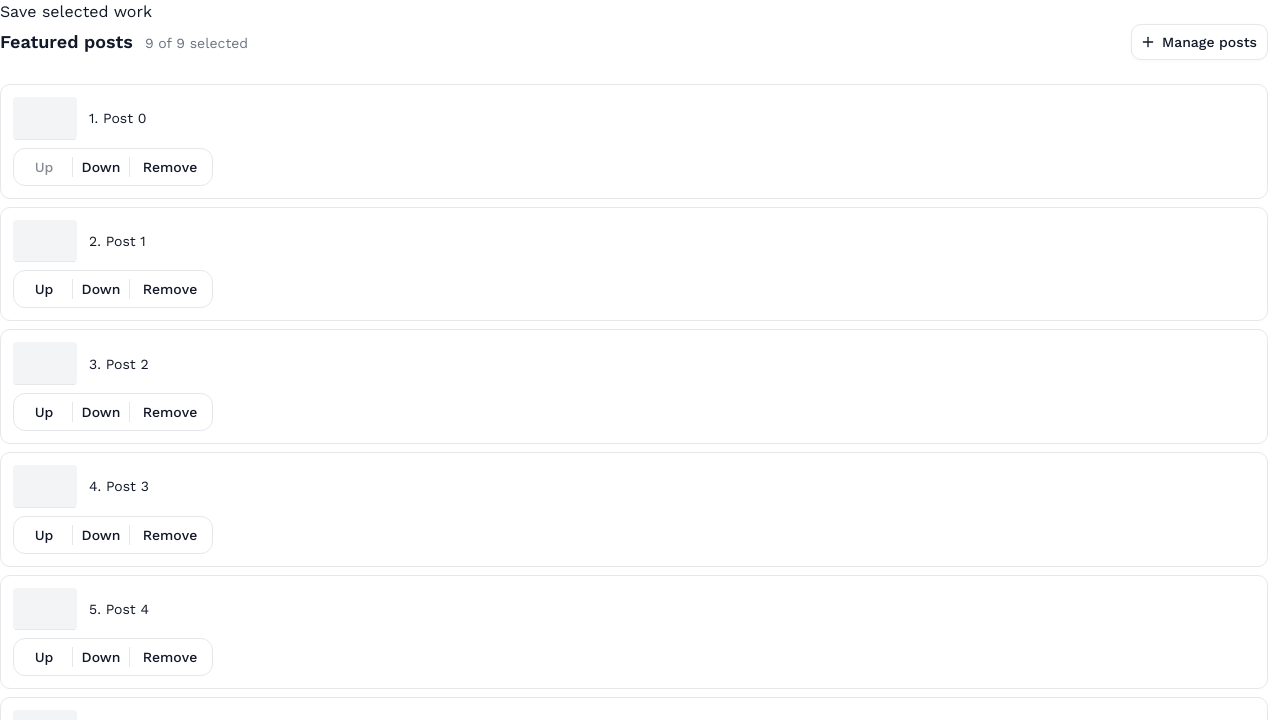
Test: SelectedWorkEditor › caps the selection at nine and disables further picks
The width and height of the screenshot is (1280, 720).
What coordinates should you click on to do the following:
click the button "Manage posts"
I would click on:
 (1200, 42)
Its box is [1131,24,1268,60].
(page scrolled)
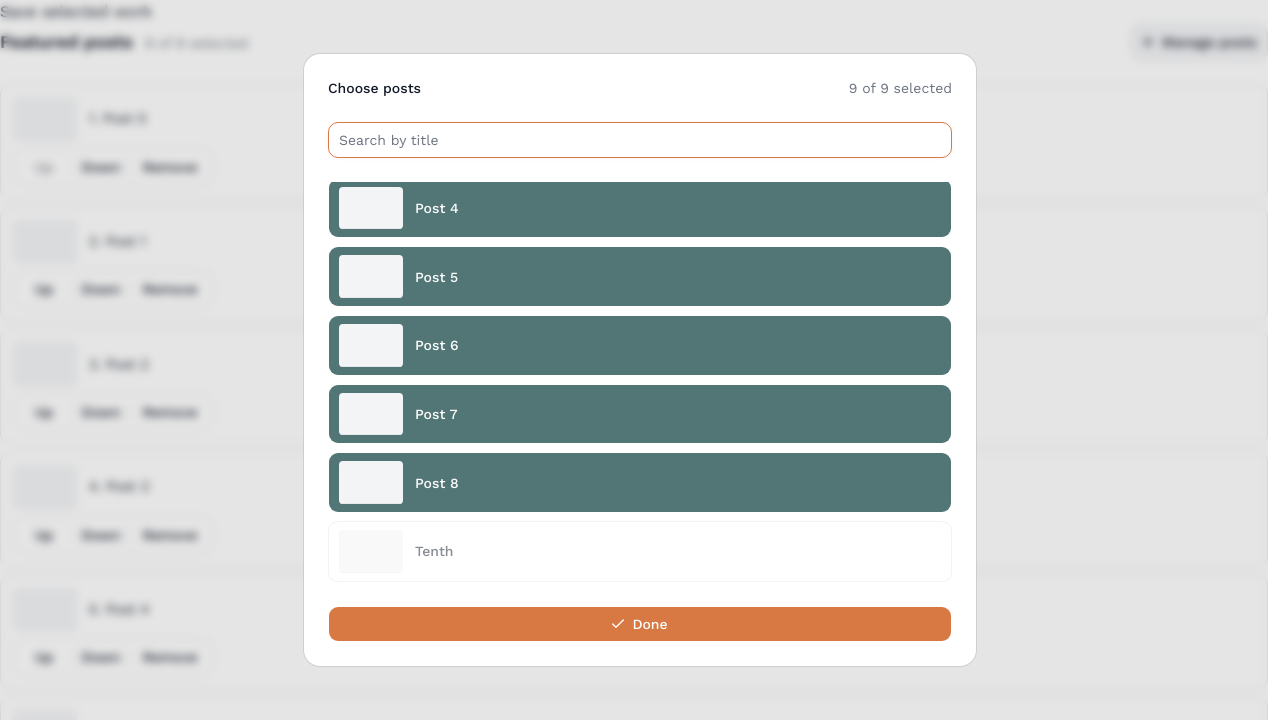
Result: the text "9 of 9 selected" is shown at [849,78,952,98]
Result: the button "Tenth" is disabled at [328,521,952,582]
